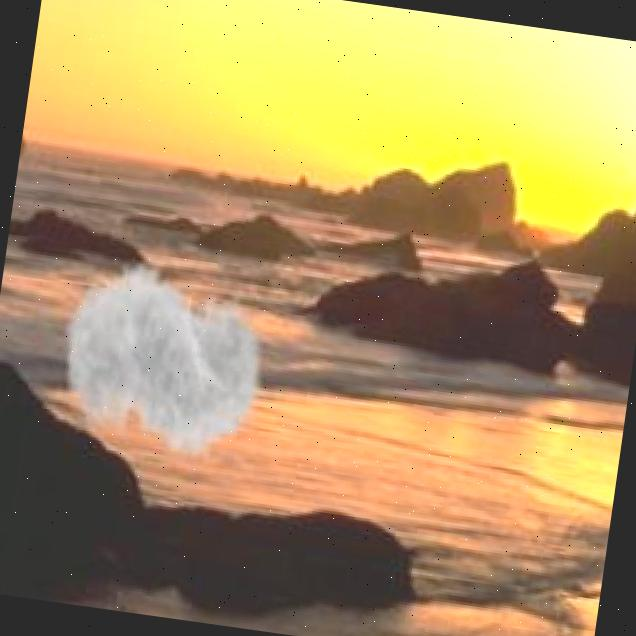smoke: (47, 235, 280, 492)
